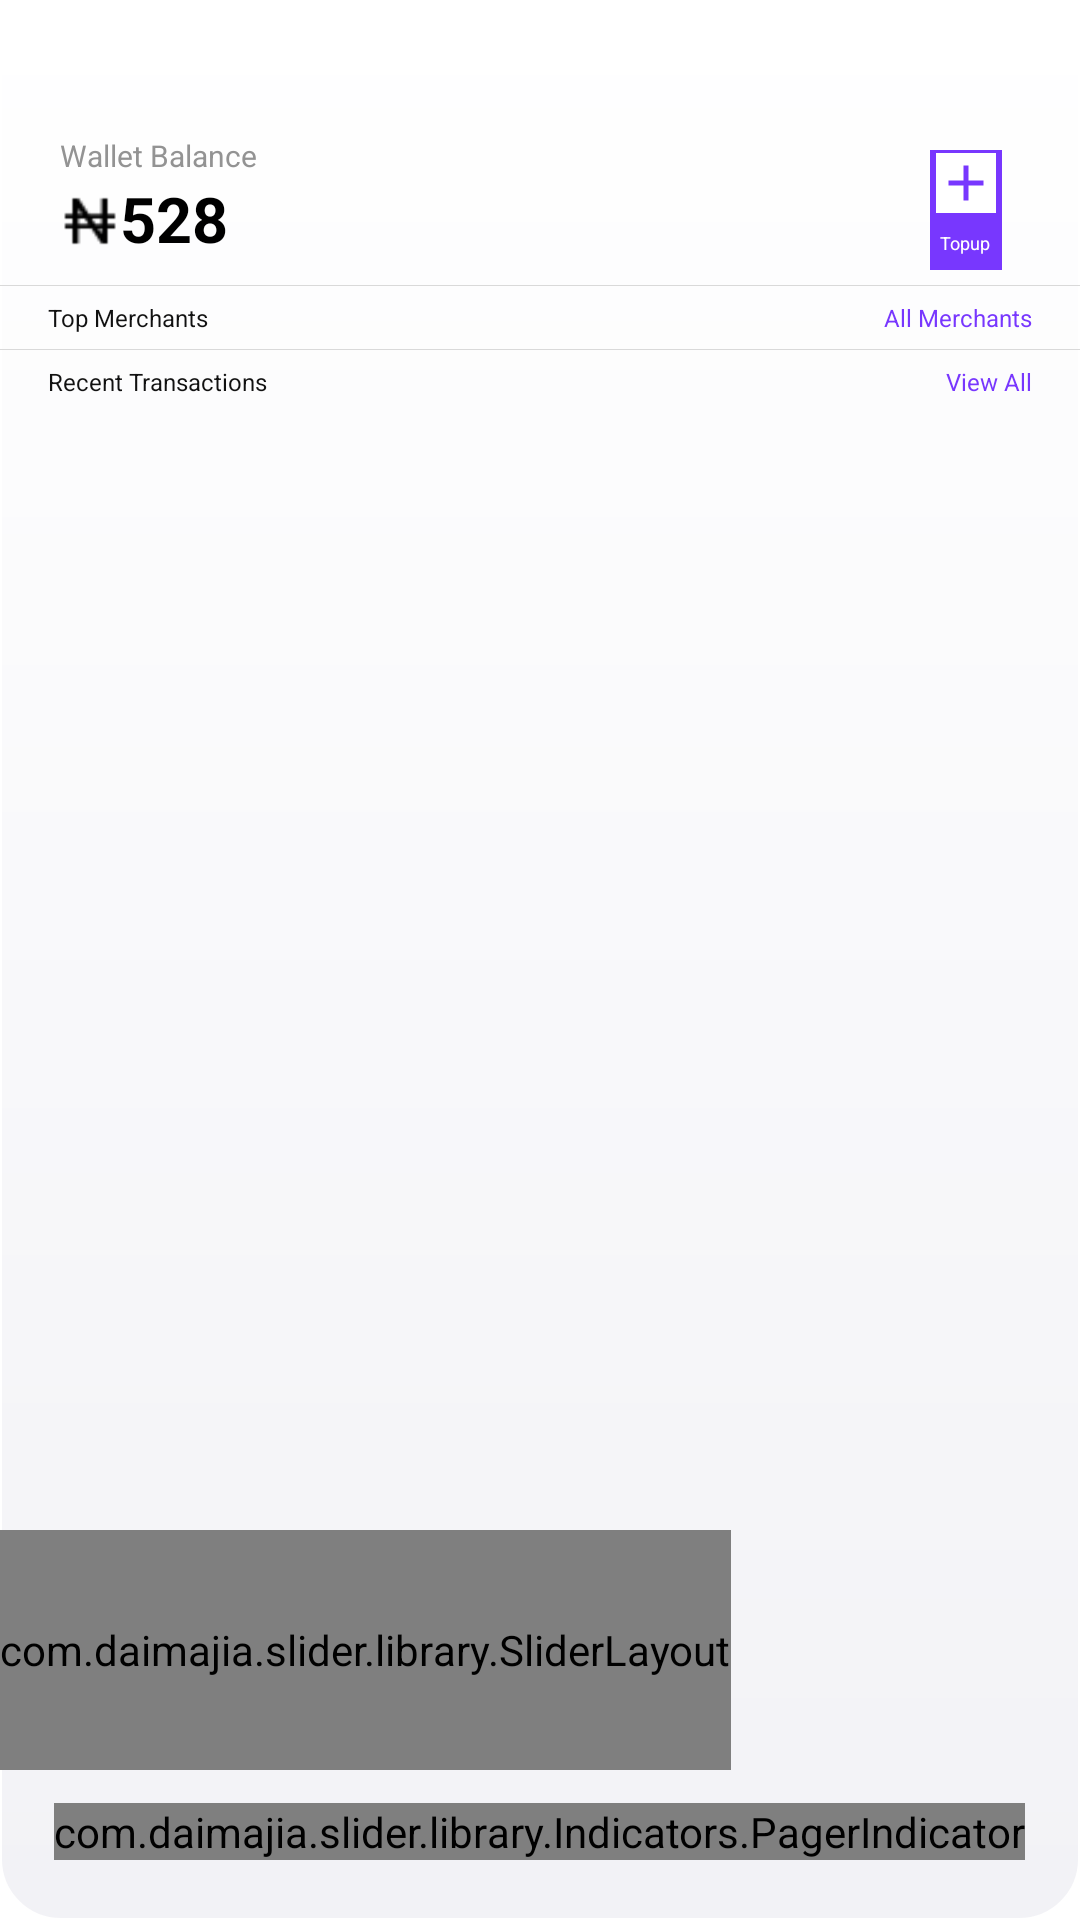

Named icons in this screenshot (1080×1920) and their centers, point (x, y):
add: point (966, 183)
naira: point (90, 221)
